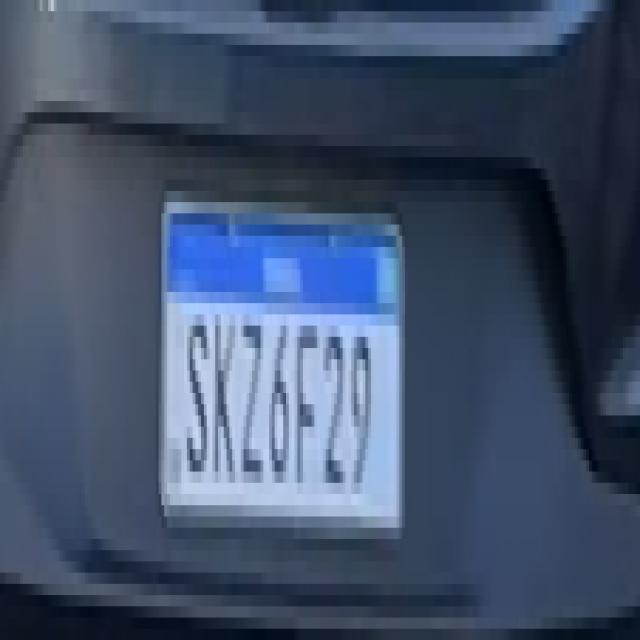Placa_mercosul_carro: (157, 179, 408, 540)
